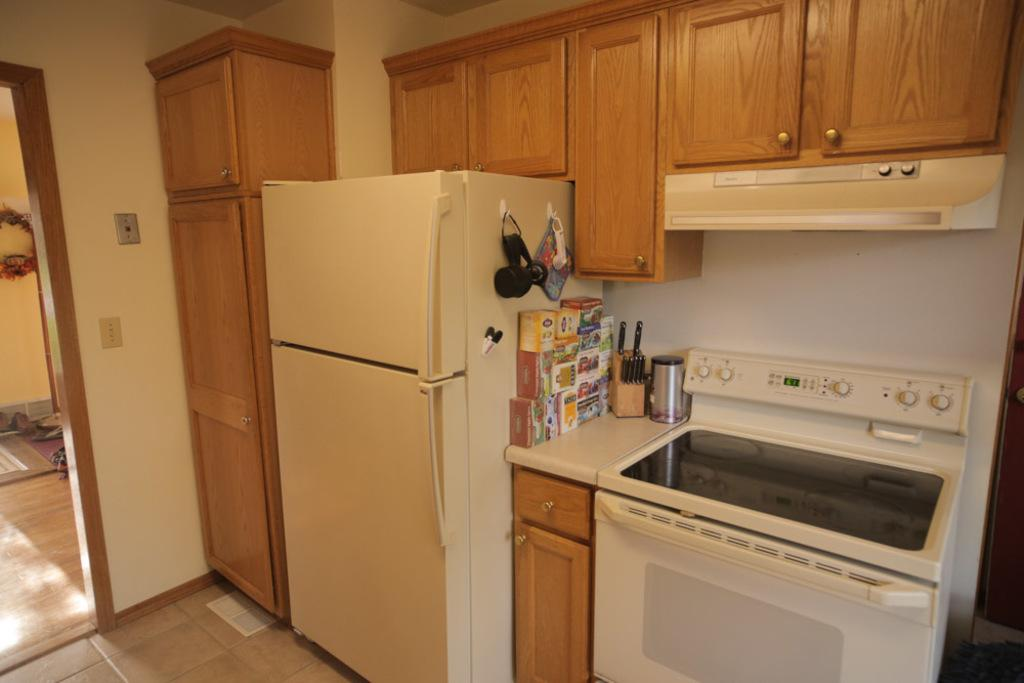cabinet_door: (186, 229, 264, 592), (806, 12, 996, 150), (572, 22, 653, 270), (673, 13, 797, 162), (514, 527, 578, 683), (474, 61, 564, 169), (156, 75, 234, 184), (396, 79, 462, 172), (522, 476, 588, 530)
handle: (598, 501, 916, 610), (409, 387, 455, 546), (414, 188, 454, 364), (770, 118, 796, 150), (818, 121, 844, 149), (214, 162, 240, 185), (536, 496, 558, 519), (634, 250, 652, 276), (510, 530, 530, 548)
